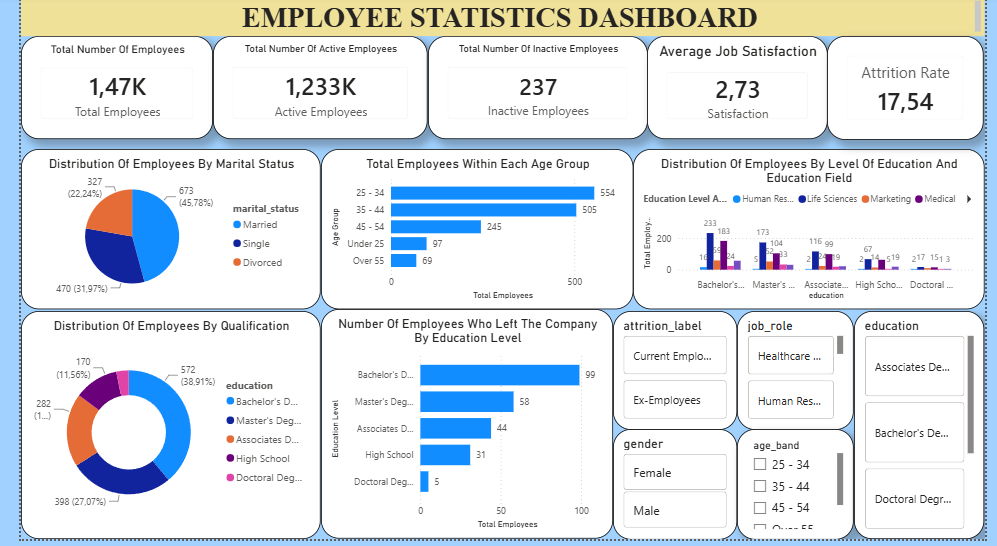

Layout of this report page (visuals, bound fields, positions):
{"tool":"powerbi","page":{"name":"Page 1","canvas":[1280,720],"ordinal":0},"visuals":[{"type":"cardVisual","title":"Total Number Of Employees","fields":{"Data":["Count(Employee Statistics.emp_no)"]},"box":[0,51.7,255,136.7],"z":0},{"type":"cardVisual","title":"Total Number Of Active Employees ","fields":{"Data":["CountNonNull(Employee Statistics.active_employee)"]},"box":[255,51.7,285,136.7],"z":1000},{"type":"cardVisual","title":"Total Number Of Inactive Employees","fields":{"Data":["CountNonNull(Employee Statistics.active_employee)"]},"box":[540,51.7,291.7,136.7],"z":2000},{"type":"cardVisual","title":"Average Job Satisfaction","fields":{"Data":["Avg(Employee Statistics.job_satisfaction)"]},"box":[831.7,51.7,240,136.7],"z":3000},{"type":"clusteredBarChart","title":"Total Employees Within Each Age Group","fields":{"Category":["Employee Statistics.age_band"],"Y":["CountNonNull(Employee Statistics.age)"]},"box":[398.3,201.7,415,213.3],"z":4000},{"type":"pieChart","title":"Distribution Of Employees By Marital Status","fields":{"Category":["Employee Statistics.marital_status"],"Y":["CountNonNull(Employee Statistics.emp_no)"]},"box":[0,201.7,398.3,213.3],"z":5000},{"type":"donutChart","title":"Distribution Of Employees By Qualification","fields":{"Category":["Employee Statistics.education"],"Y":["CountNonNull(Employee Statistics.emp_no)"]},"box":[0,416.7,398.3,303.3],"z":6000},{"type":"textbox","box":[0,0,1280,51.7],"z":7000},{"type":"advancedSlicerVisual","fields":{"Values":["Employee Statistics.gender"]},"box":[786.7,573.3,165,146.7],"z":8000},{"type":"advancedSlicerVisual","fields":{"Values":["Employee Statistics.attrition_label"]},"box":[786.7,416.7,165,158.3],"z":9000},{"type":"advancedSlicerVisual","fields":{"Values":["Employee Statistics.job_role"]},"box":[951.7,416.7,155,158.3],"z":10000},{"type":"clusteredBarChart","title":"Number Of Employees Who Left The Company By Education Level","fields":{"Category":["Employee Statistics.education"],"Y":["CountNonNull(Employee Statistics.education)"]},"box":[398.3,415,388.3,305],"z":11000},{"type":"clusteredColumnChart","title":"Distribution Of Employees By Level Of Education And Education Field","fields":{"Category":["Employee Statistics.education"],"Series":["Employee Statistics.education_field"],"Y":["CountNonNull(Employee Statistics.education)"]},"box":[813.3,201.7,466.7,213.3],"z":12000},{"type":"slicer","fields":{"Values":["Employee Statistics.age_band"]},"box":[951.7,573.3,155,146.7],"z":13000},{"type":"cardVisual","title":"Attrition Rate","fields":{"Data":["Employee Statistics.Attrition Rate"]},"box":[1071.2,51.2,207.8,137.6],"z":14000},{"type":"advancedSlicerVisual","fields":{"Values":["Employee Statistics.education"]},"box":[1106.7,416.7,173.3,303.3],"z":15000}]}

Visuals, with their boxes in screenshot pixels (x1, y1, x2, y2), scaled from the page's 1280x720 canvas onto the 997x546 screenshot:
"Total Number Of Employees" cardVisual: pyautogui.locateOnScreen(0, 39, 199, 143)
"Total Number Of Active Employees " cardVisual: pyautogui.locateOnScreen(199, 39, 421, 143)
"Total Number Of Inactive Employees" cardVisual: pyautogui.locateOnScreen(421, 39, 648, 143)
"Average Job Satisfaction" cardVisual: pyautogui.locateOnScreen(648, 39, 835, 143)
"Total Employees Within Each Age Group" clusteredBarChart: pyautogui.locateOnScreen(310, 153, 633, 315)
"Distribution Of Employees By Marital Status" pieChart: pyautogui.locateOnScreen(0, 153, 310, 315)
"Distribution Of Employees By Qualification" donutChart: pyautogui.locateOnScreen(0, 316, 310, 545)
textbox: pyautogui.locateOnScreen(0, 0, 996, 39)
advancedSlicerVisual - Employee Statistics.gender: pyautogui.locateOnScreen(613, 435, 741, 545)
advancedSlicerVisual - Employee Statistics.attrition_label: pyautogui.locateOnScreen(613, 316, 741, 436)
advancedSlicerVisual - Employee Statistics.job_role: pyautogui.locateOnScreen(741, 316, 862, 436)
"Number Of Employees Who Left The Company By Education Level" clusteredBarChart: pyautogui.locateOnScreen(310, 315, 613, 545)
"Distribution Of Employees By Level Of Education And Education Field" clusteredColumnChart: pyautogui.locateOnScreen(633, 153, 996, 315)
slicer - Employee Statistics.age_band: pyautogui.locateOnScreen(741, 435, 862, 545)
"Attrition Rate" cardVisual: pyautogui.locateOnScreen(834, 39, 996, 143)
advancedSlicerVisual - Employee Statistics.education: pyautogui.locateOnScreen(862, 316, 996, 545)
